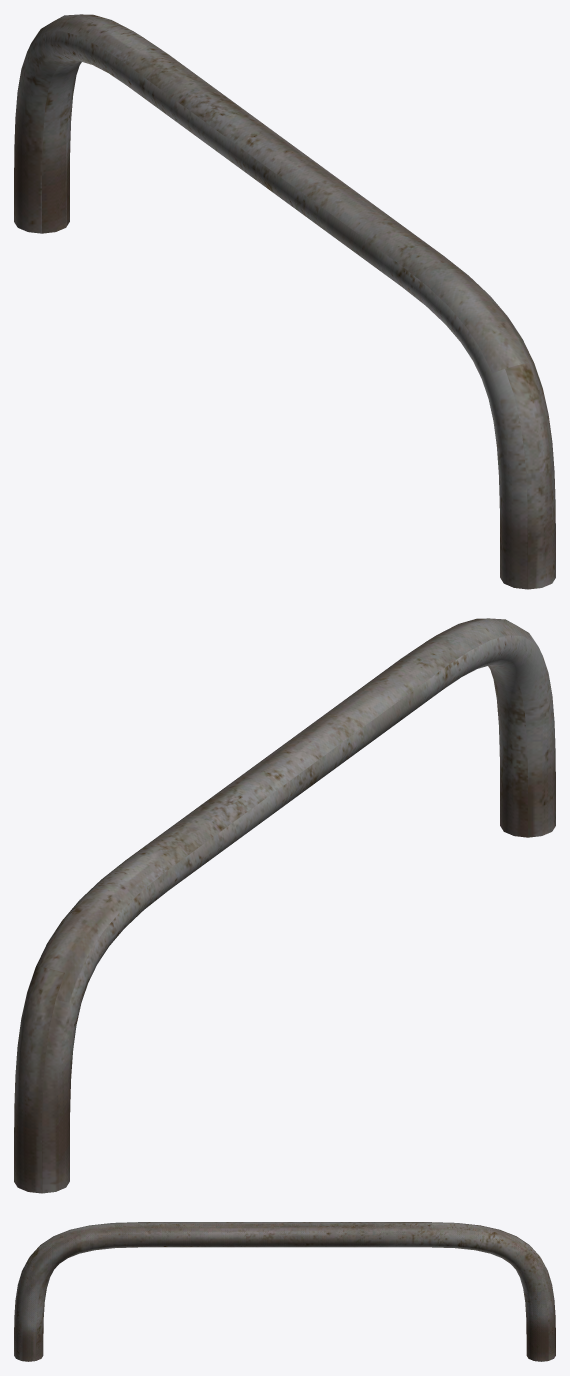
File: player cuff bar1.glb
The picture shows the model from 3 angles, top to bottom: view 1: azimuth 30°, elevation 25°; view 2: azimuth 150°, elevation 25°; view 3: azimuth 270°, elevation 25°; orthographic projection. The views are drawn at different scales.
Parts seen in each view (by area): view 1: BezierCurve; view 2: BezierCurve; view 3: BezierCurve.
Part boxes in pixels (x1=…): BezierCurve: x1=14, y1=14, x2=555, y2=589; BezierCurve: x1=14, y1=618, x2=555, y2=1193; BezierCurve: x1=14, y1=1222, x2=555, y2=1361.
Bounding box in the file's own units: 0.26 × 1.28 × 4.79.
Materials: 1 (1 with a texture image).
